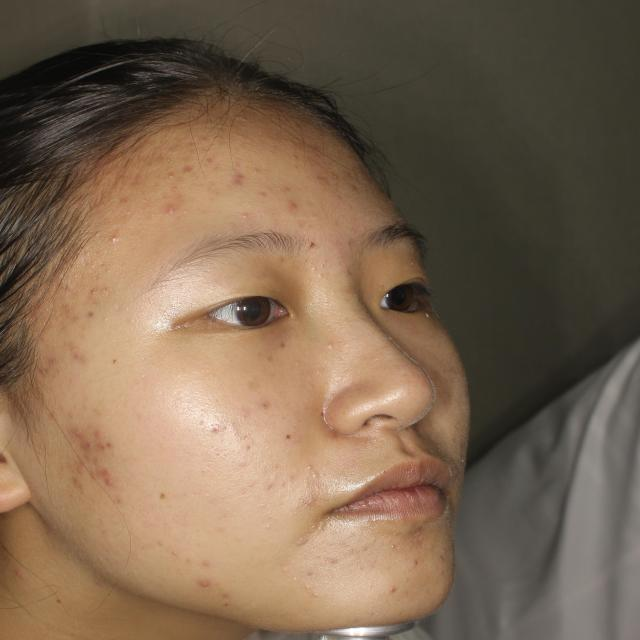acne: (32, 356, 70, 386), (221, 164, 253, 194), (92, 428, 119, 457), (279, 194, 308, 221), (65, 343, 96, 366), (70, 461, 93, 491), (54, 303, 76, 332), (65, 427, 90, 451), (161, 201, 183, 228), (190, 573, 217, 594), (95, 466, 119, 485)
